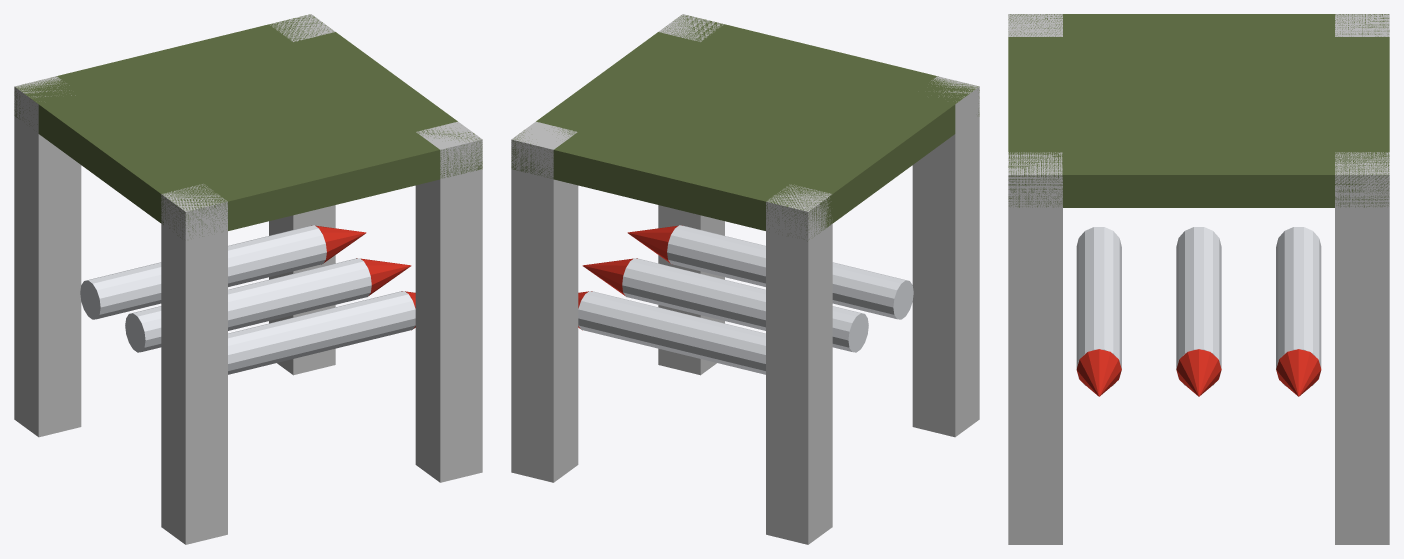
File: missile_rack.obj
3 renders of one model, left to right at view 1: azimuth 30°, elevation 25°; view 2: azimuth 150°, elevation 25°; view 3: azimuth 270°, elevation 25°, orthographic. The views are drawn at different scales.
Parts seen in each view (by area): view 1: missile_rack; view 2: missile_rack; view 3: missile_rack.
Part boxes in pixels (box(x1,y1,x2,y2)): missile_rack: box(14, 14, 482, 544); missile_rack: box(511, 14, 979, 544); missile_rack: box(1008, 14, 1389, 544).
Size of the model in its own units: 0.88 by 0.9 by 0.84.
